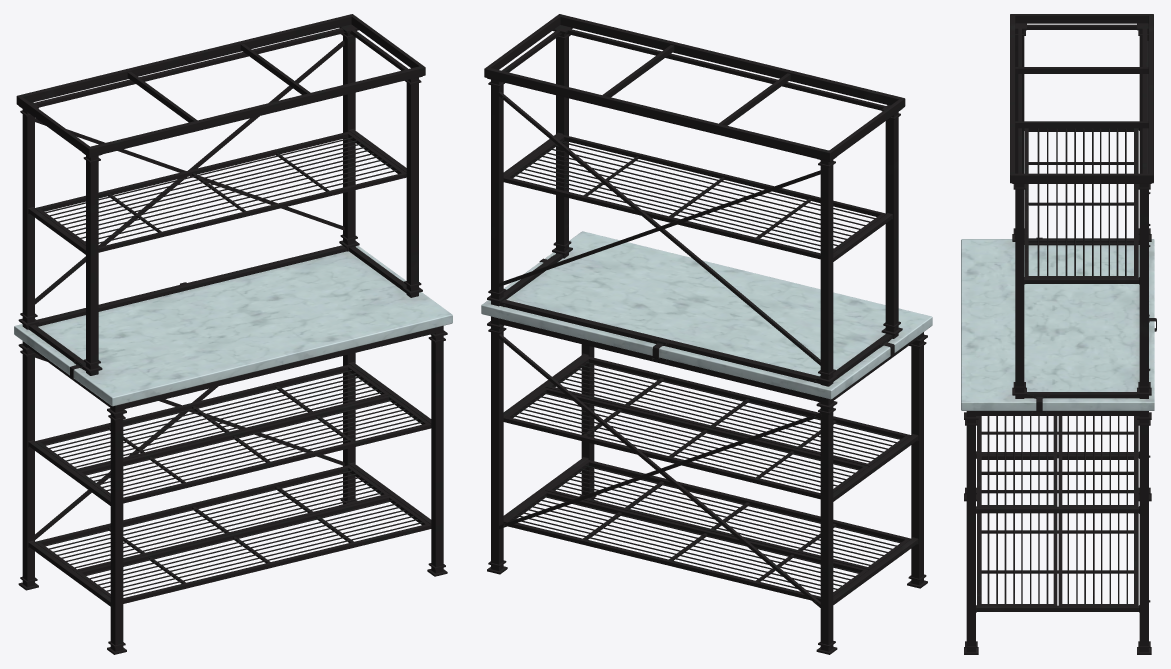
File: abo-B07B78G1D1.glb
The picture shows the model from 3 angles, left to right: view 1: azimuth 30°, elevation 25°; view 2: azimuth 150°, elevation 25°; view 3: azimuth 270°, elevation 25°; orthographic projection. The views are drawn at different scales.
Size of the model in its own units: 1.21 by 1.66 by 0.61.
1 material, 1 textured.
